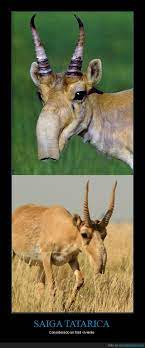saiga: (27, 13, 137, 168), (11, 180, 118, 310)
